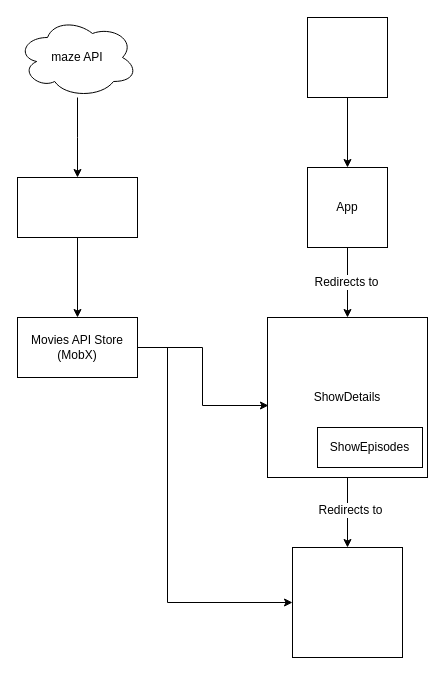
Some shapes in this 445 by 675 pixel diagram are drawn without their labels. Here are the shapes that lost their labels. From the top down, the centre of each, then its label:
(x=347, y=57): AppRoot
(x=77, y=207): fetch service
(x=347, y=602): EpisodeDetails
